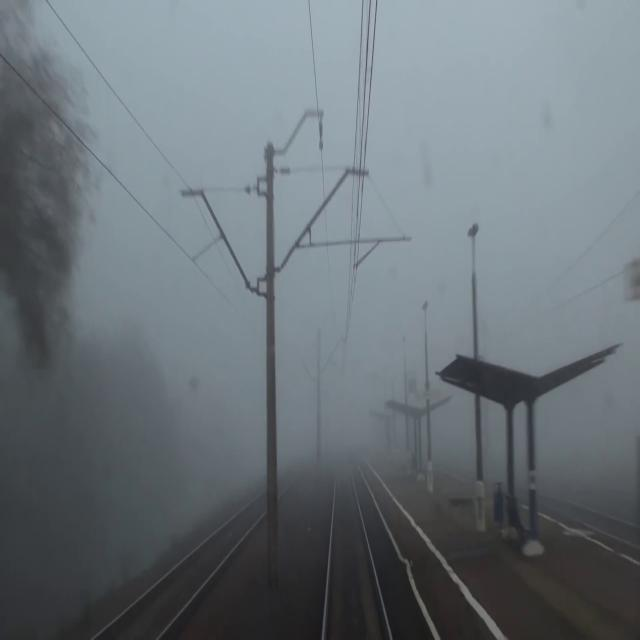rail-track: (100, 497, 265, 639), (327, 460, 387, 639), (539, 497, 640, 539)
